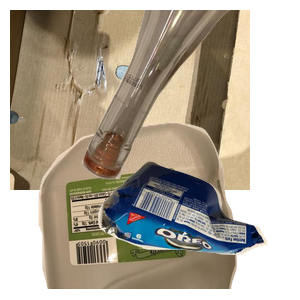cardboard: (10, 10, 250, 190)
glass: (80, 10, 300, 182)
plastic: (36, 120, 265, 300)
trash: (95, 158, 300, 300)
